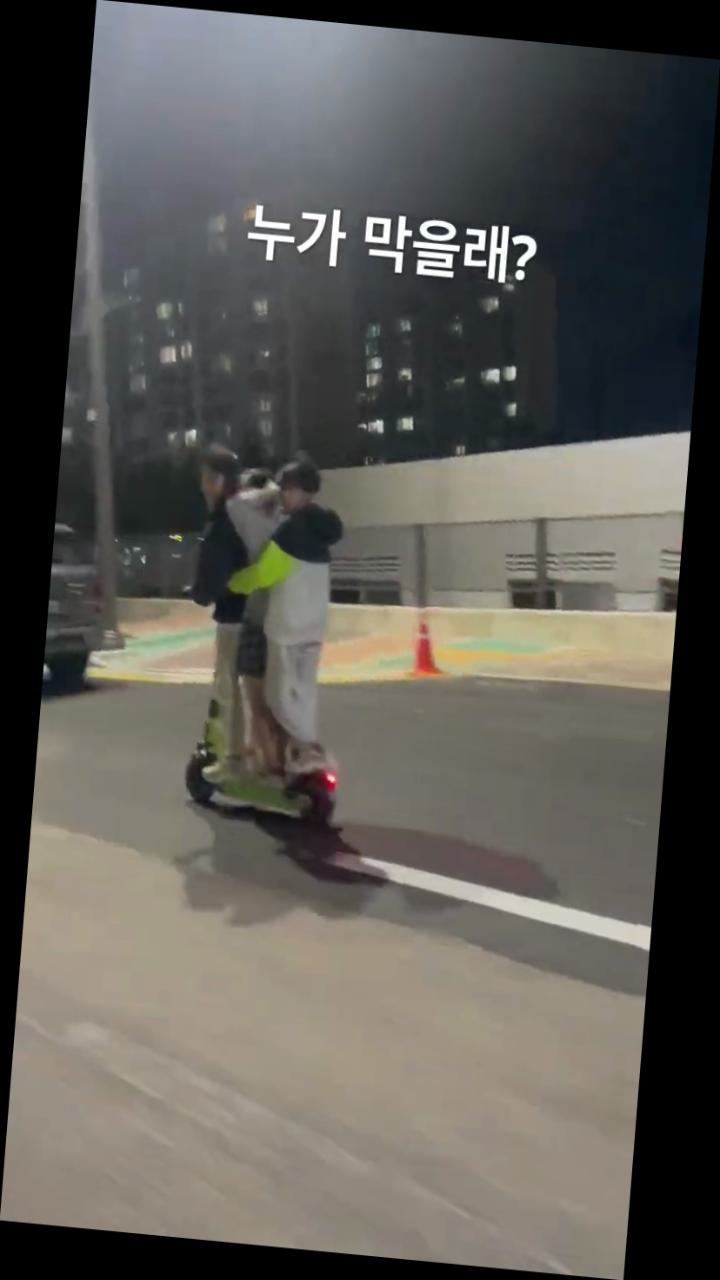multiple: (164, 440, 370, 835)
